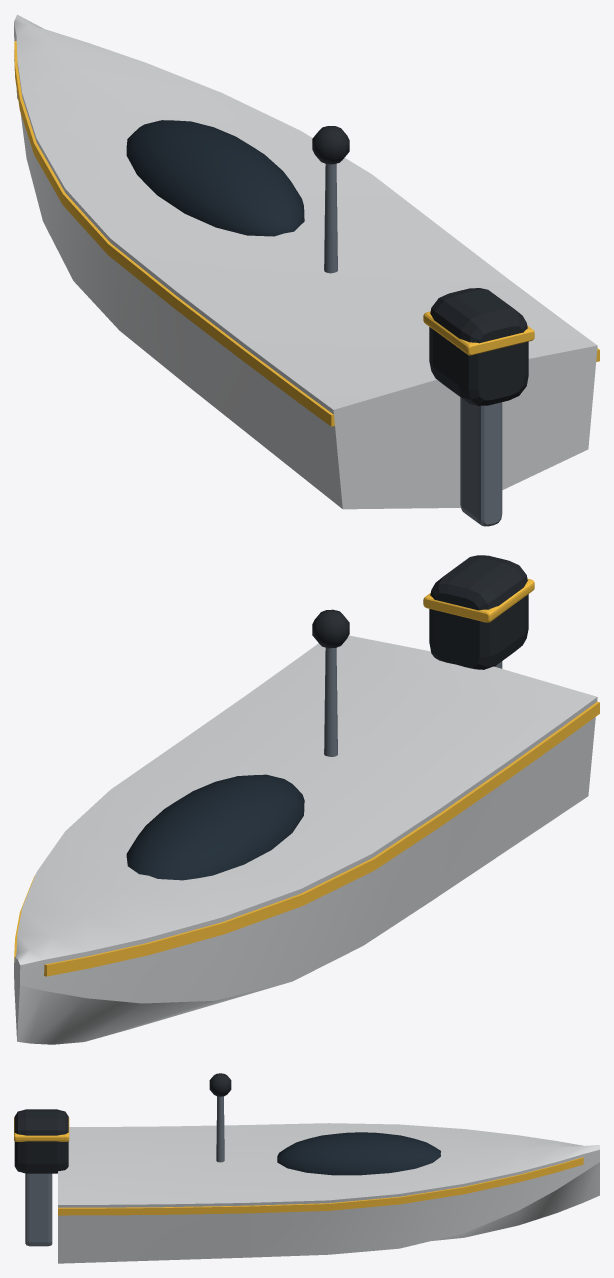
Rendered from boat-cmn5e6_R.glb.
3 renders of one model, top to bottom at view 1: azimuth 30°, elevation 25°; view 2: azimuth 150°, elevation 25°; view 3: azimuth 270°, elevation 25°, orthographic. The views are drawn at different scales.
Parts seen in each view (by area): view 1: Body, Glass, Dark, Trim, Mid; view 2: Body, Glass, Dark, Trim, Mid; view 3: Body, Glass, Trim, Dark, Mid.
Boxes of the visible parts, x1,y1,x2,y2 form: Body: (14, 14, 597, 509); Glass: (126, 120, 304, 236); Dark: (312, 126, 528, 405); Trim: (14, 41, 599, 426); Mid: (324, 163, 502, 526); Body: (14, 635, 597, 1044); Glass: (126, 774, 304, 880); Dark: (312, 555, 528, 669); Trim: (14, 578, 599, 976); Mid: (324, 647, 502, 756); Body: (58, 1123, 599, 1263); Glass: (277, 1132, 440, 1175); Trim: (14, 1117, 583, 1215); Dark: (14, 1073, 231, 1173); Mid: (25, 1096, 224, 1246).
Bounding box in the file's own units: 0.346 × 0.347 × 1.08.
